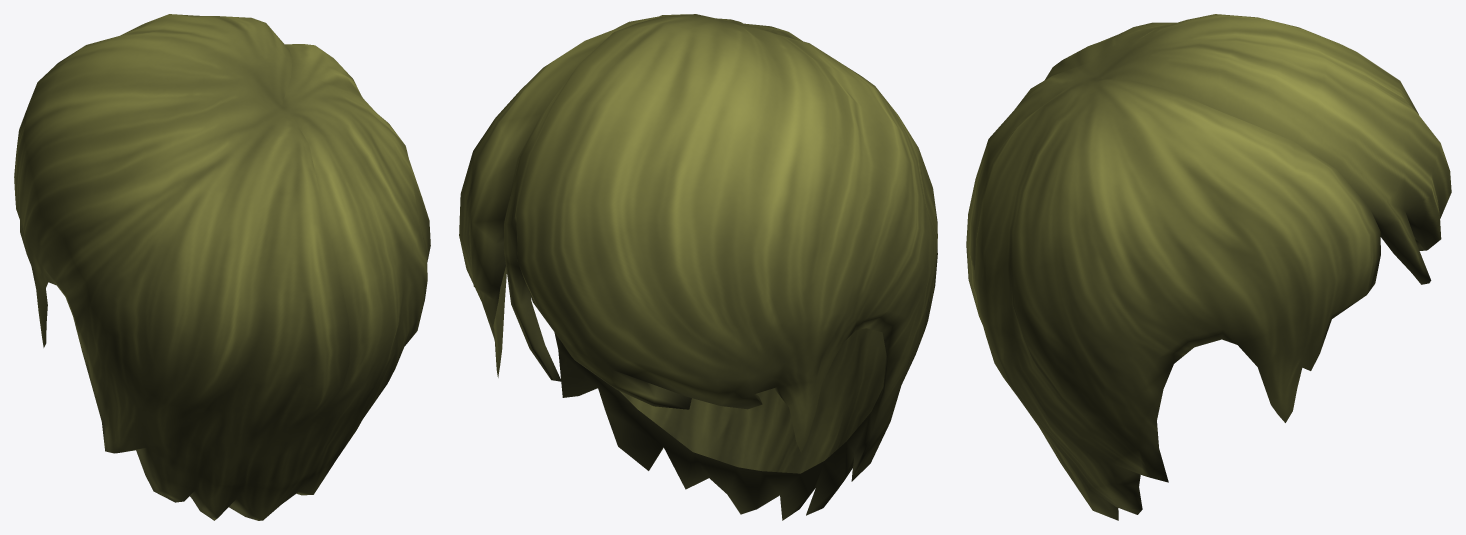
File: Hair_Male_004_textured_yellow.glb
3 views of the same model, side by side, from view 1: azimuth 30°, elevation 25°; view 2: azimuth 150°, elevation 25°; view 3: azimuth 270°, elevation 25° (orthographic). The views are drawn at different scales.
Parts seen in each view (by area): view 1: Hair_Male_004; view 2: Hair_Male_004; view 3: Hair_Male_004.
Boxes of the visible parts, box(x1,y1,x2,y2) form: Hair_Male_004: box(14, 14, 430, 520); Hair_Male_004: box(459, 14, 937, 520); Hair_Male_004: box(966, 14, 1451, 520).
Size of the model in its own units: 0.189 by 0.2477 by 0.2273.
Materials: 1 (1 with a texture image).
